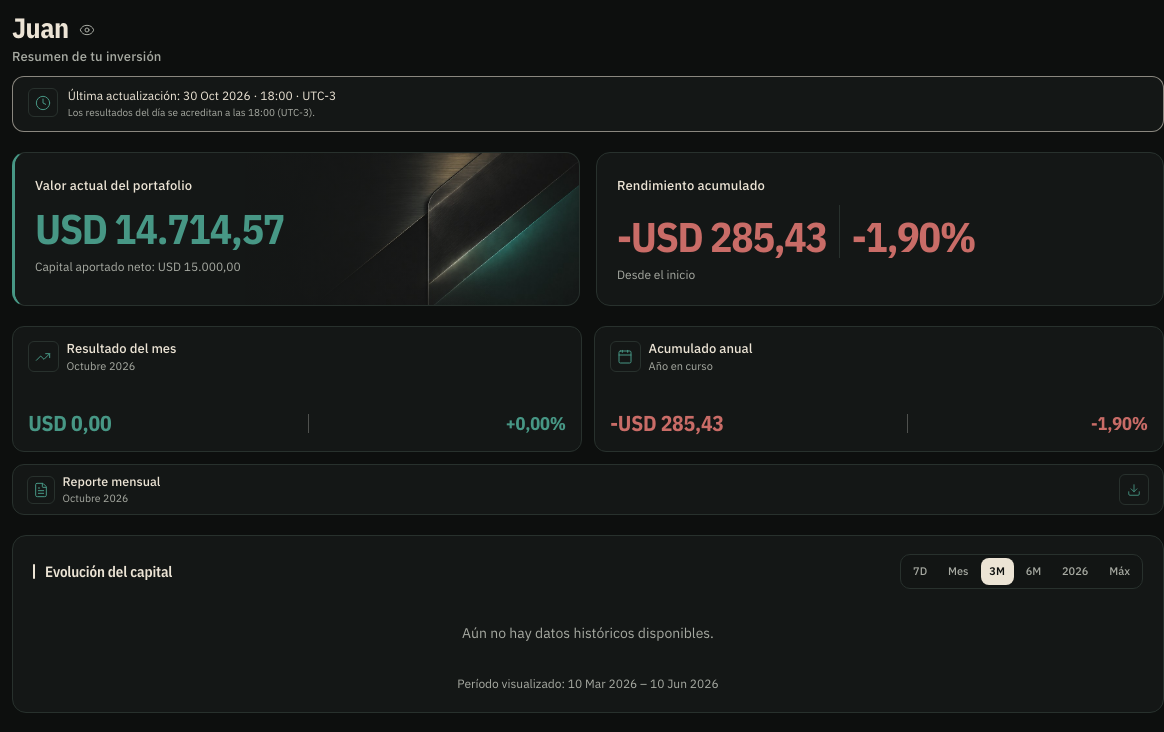
Test case: DashboardPage › toggles balance visibility
Expected: the text "USD 14.714,57" is shown, [35,201,284,255]
Click the button named "Ocultar saldos". click: [87, 30]
box: [79,22,95,38]
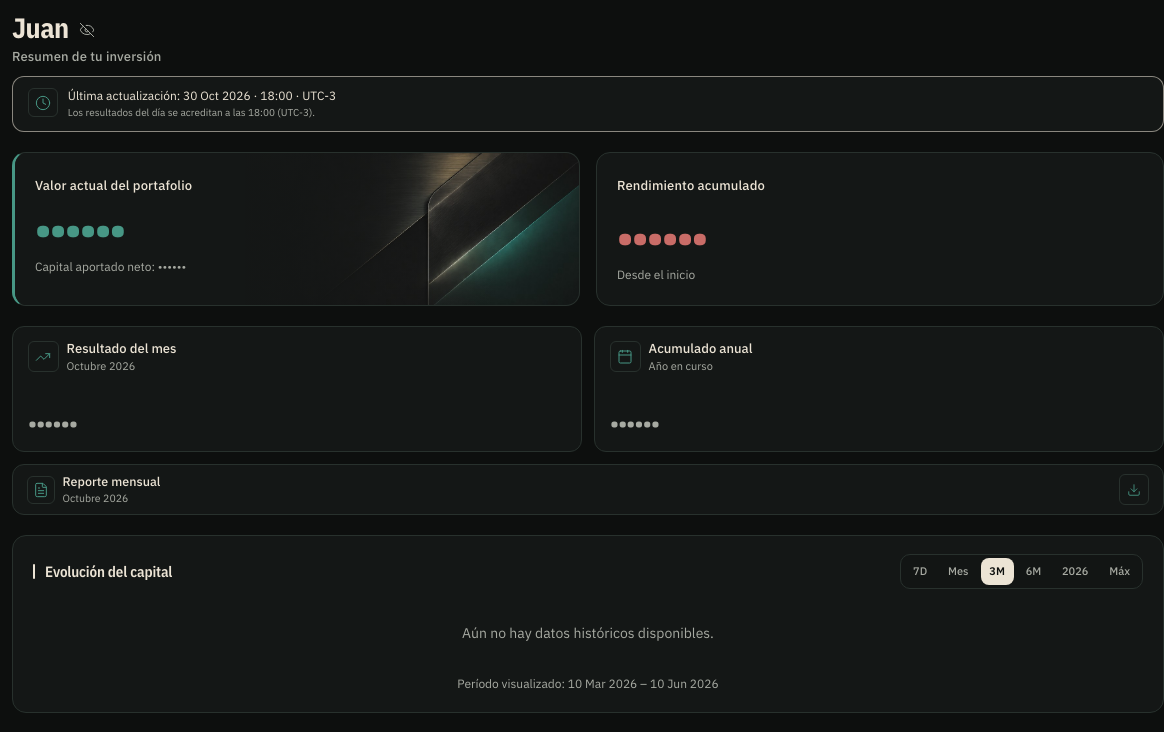
Expected: the text "USD 14.714,57" is gone
